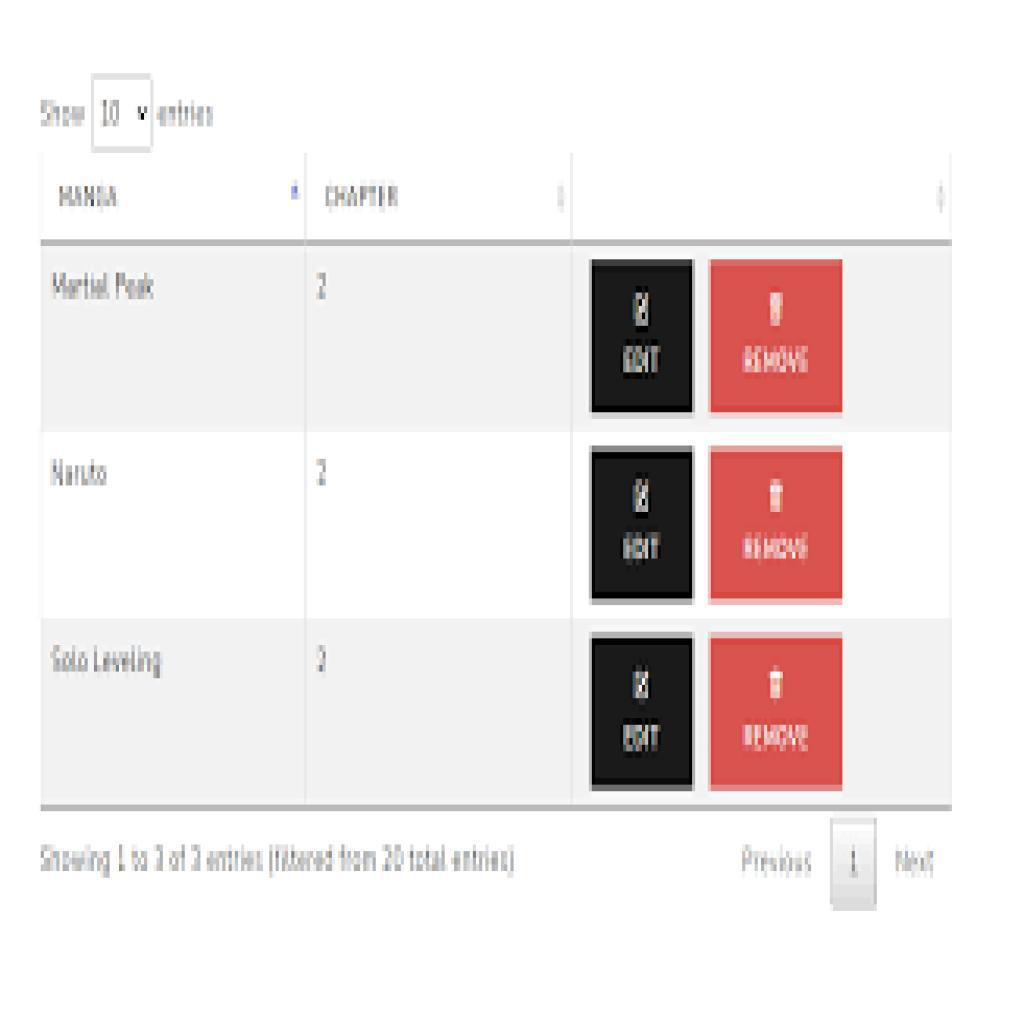dropdown: (94, 76, 154, 147)
table: (41, 151, 953, 811)
